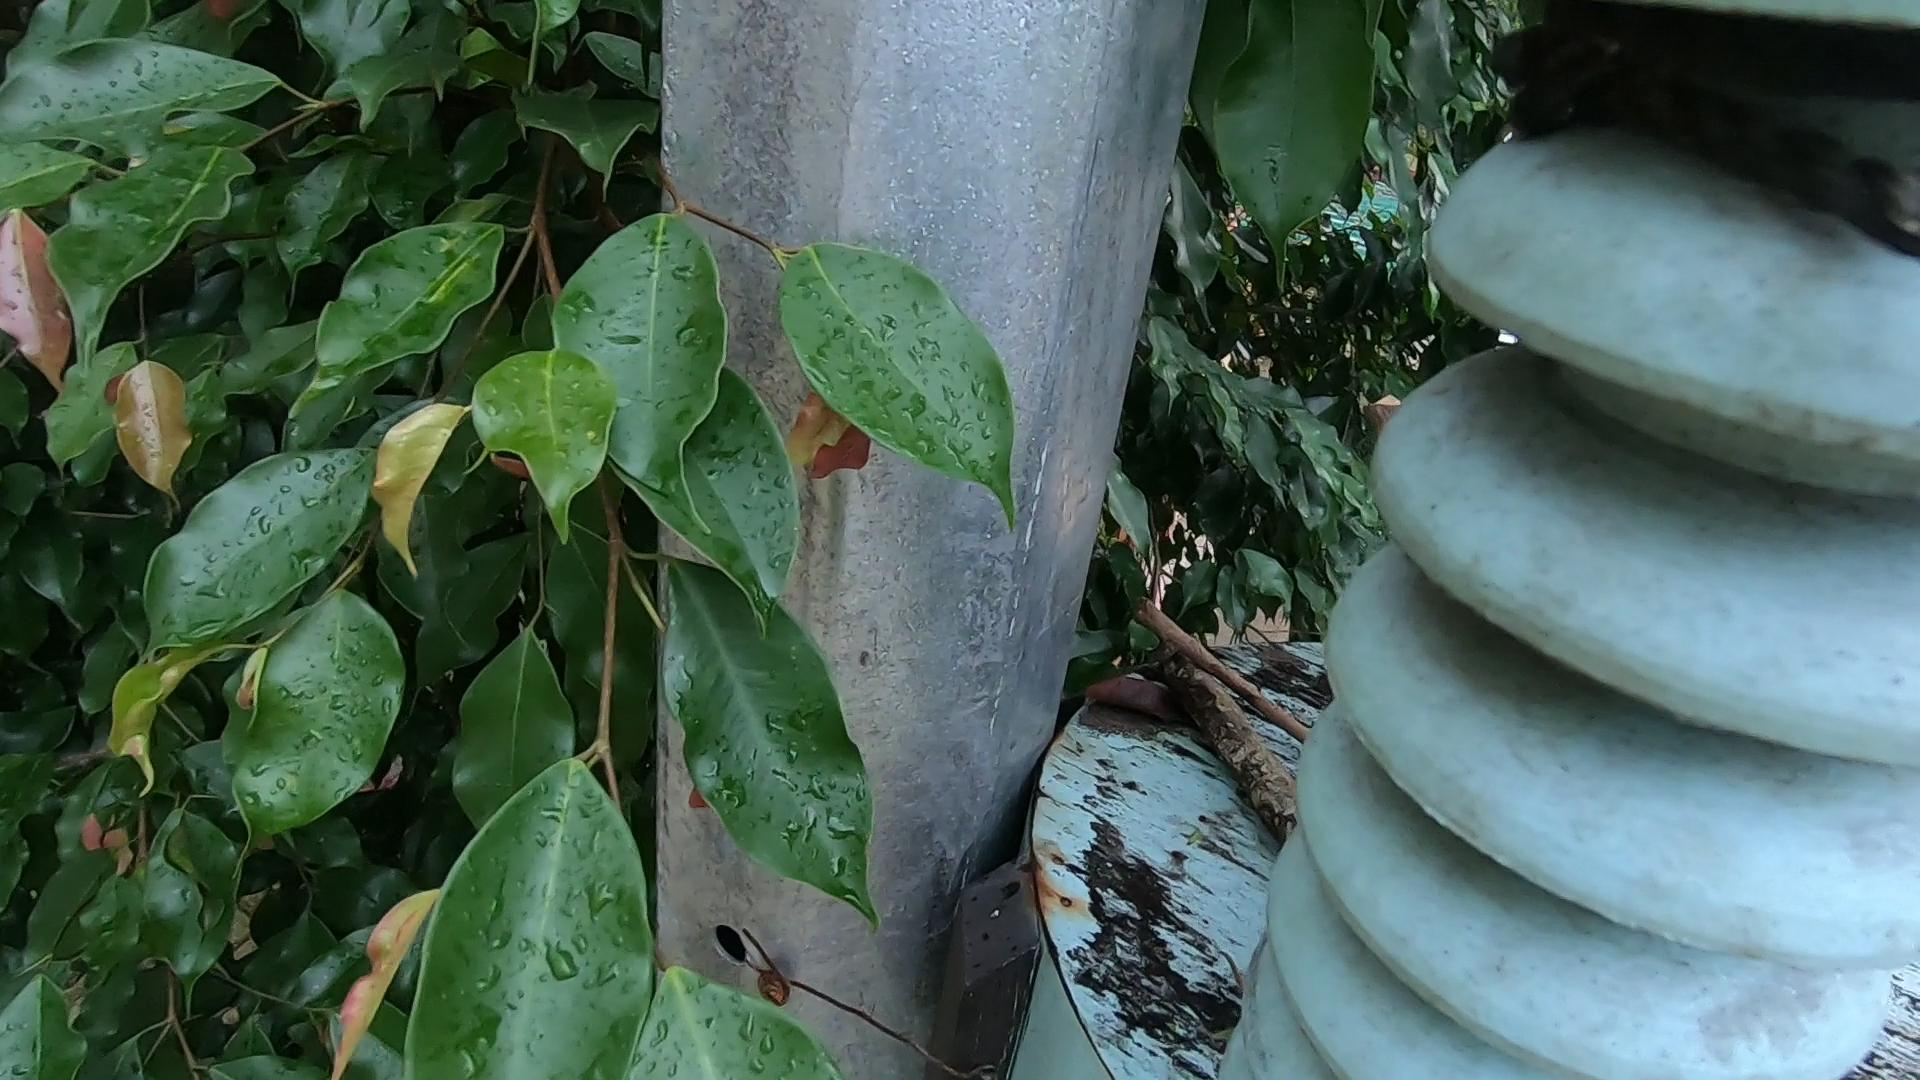branch with leaves: (1141, 651, 1327, 836)
tree branch: (1131, 589, 1312, 735)
